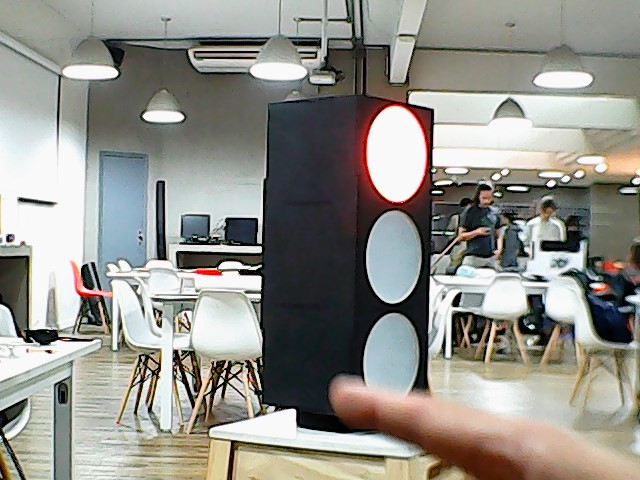vermelho: (256, 86, 436, 426)
